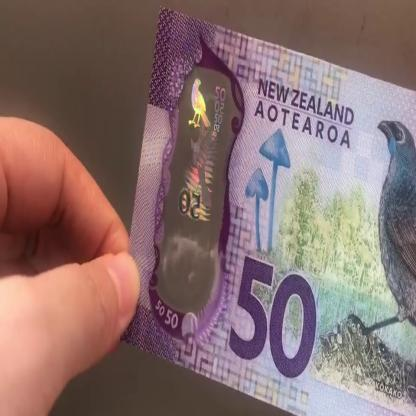50B: (174, 76, 228, 302)
